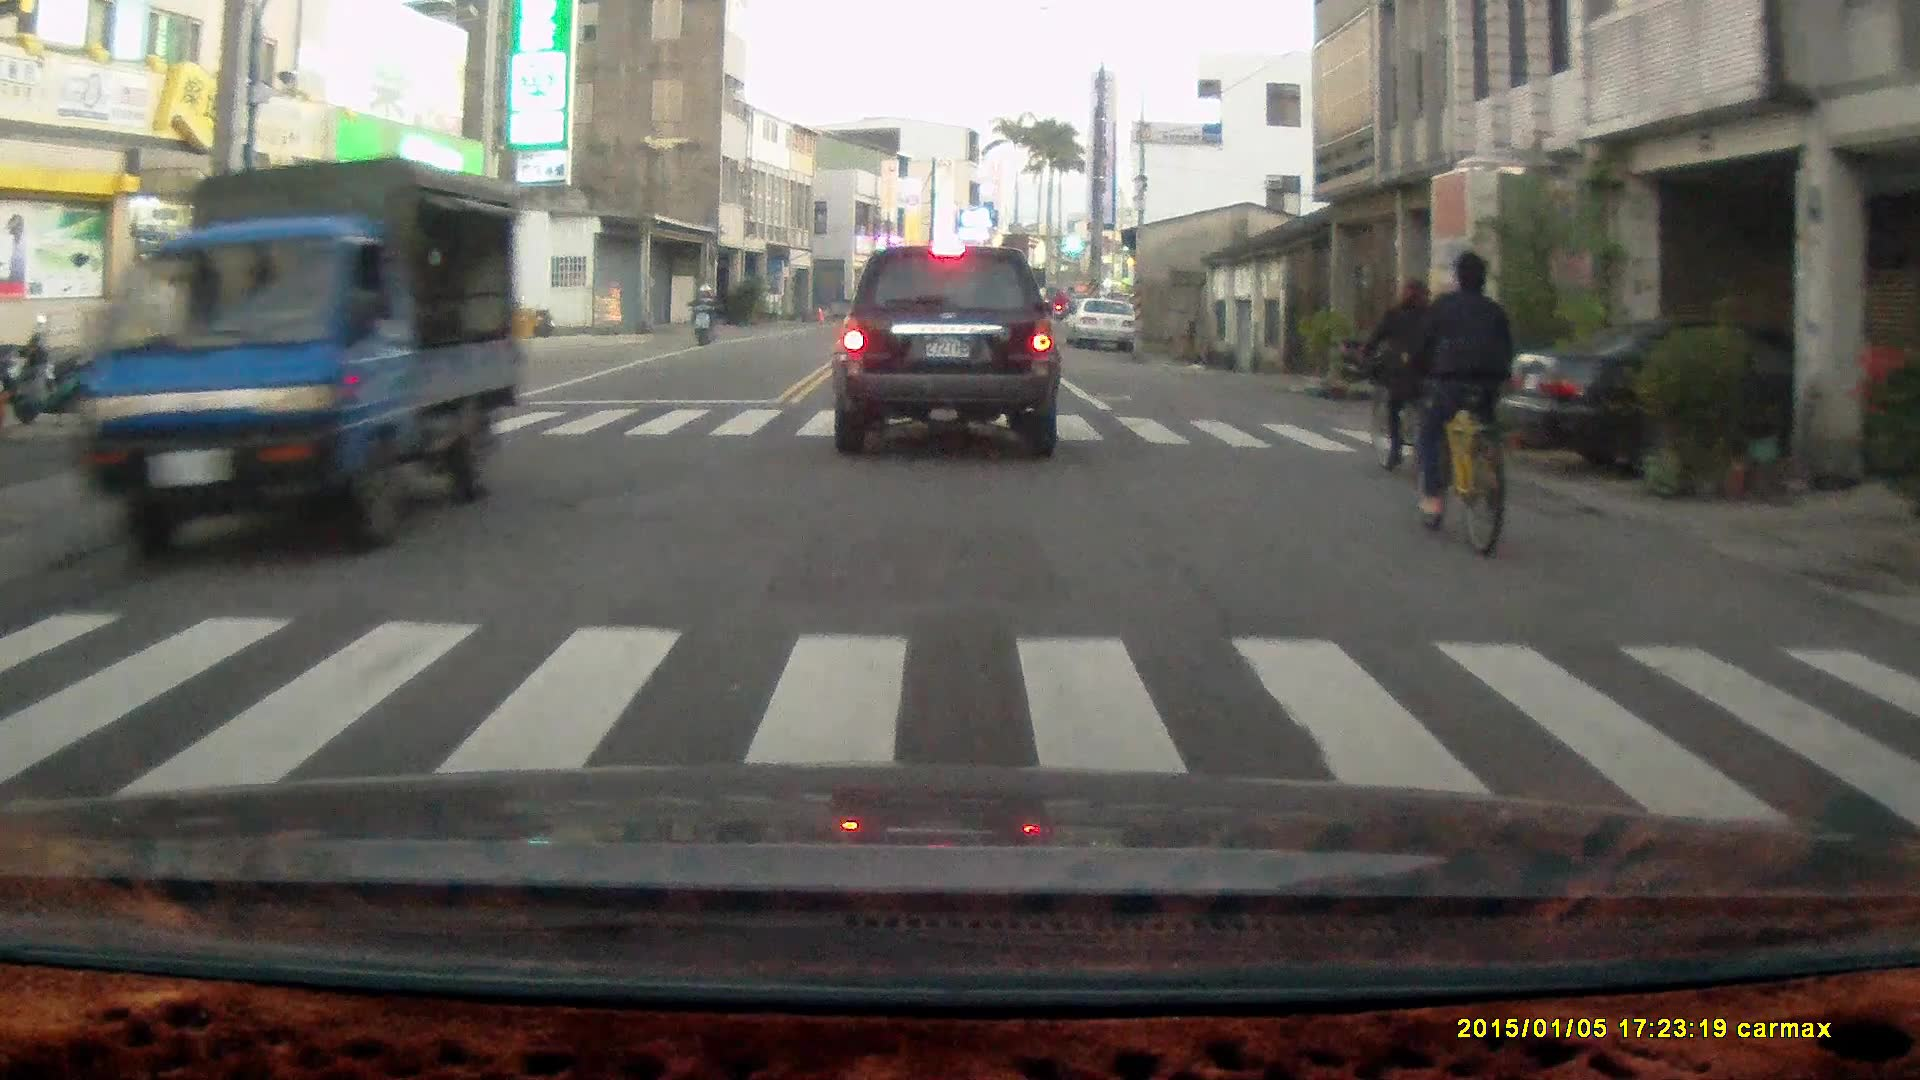rider: (1394, 253, 1513, 563), (1360, 279, 1442, 489), (688, 279, 717, 348)
vehicle: (57, 153, 511, 560), (1495, 315, 1916, 495), (828, 245, 1063, 459), (1064, 298, 1140, 354)
